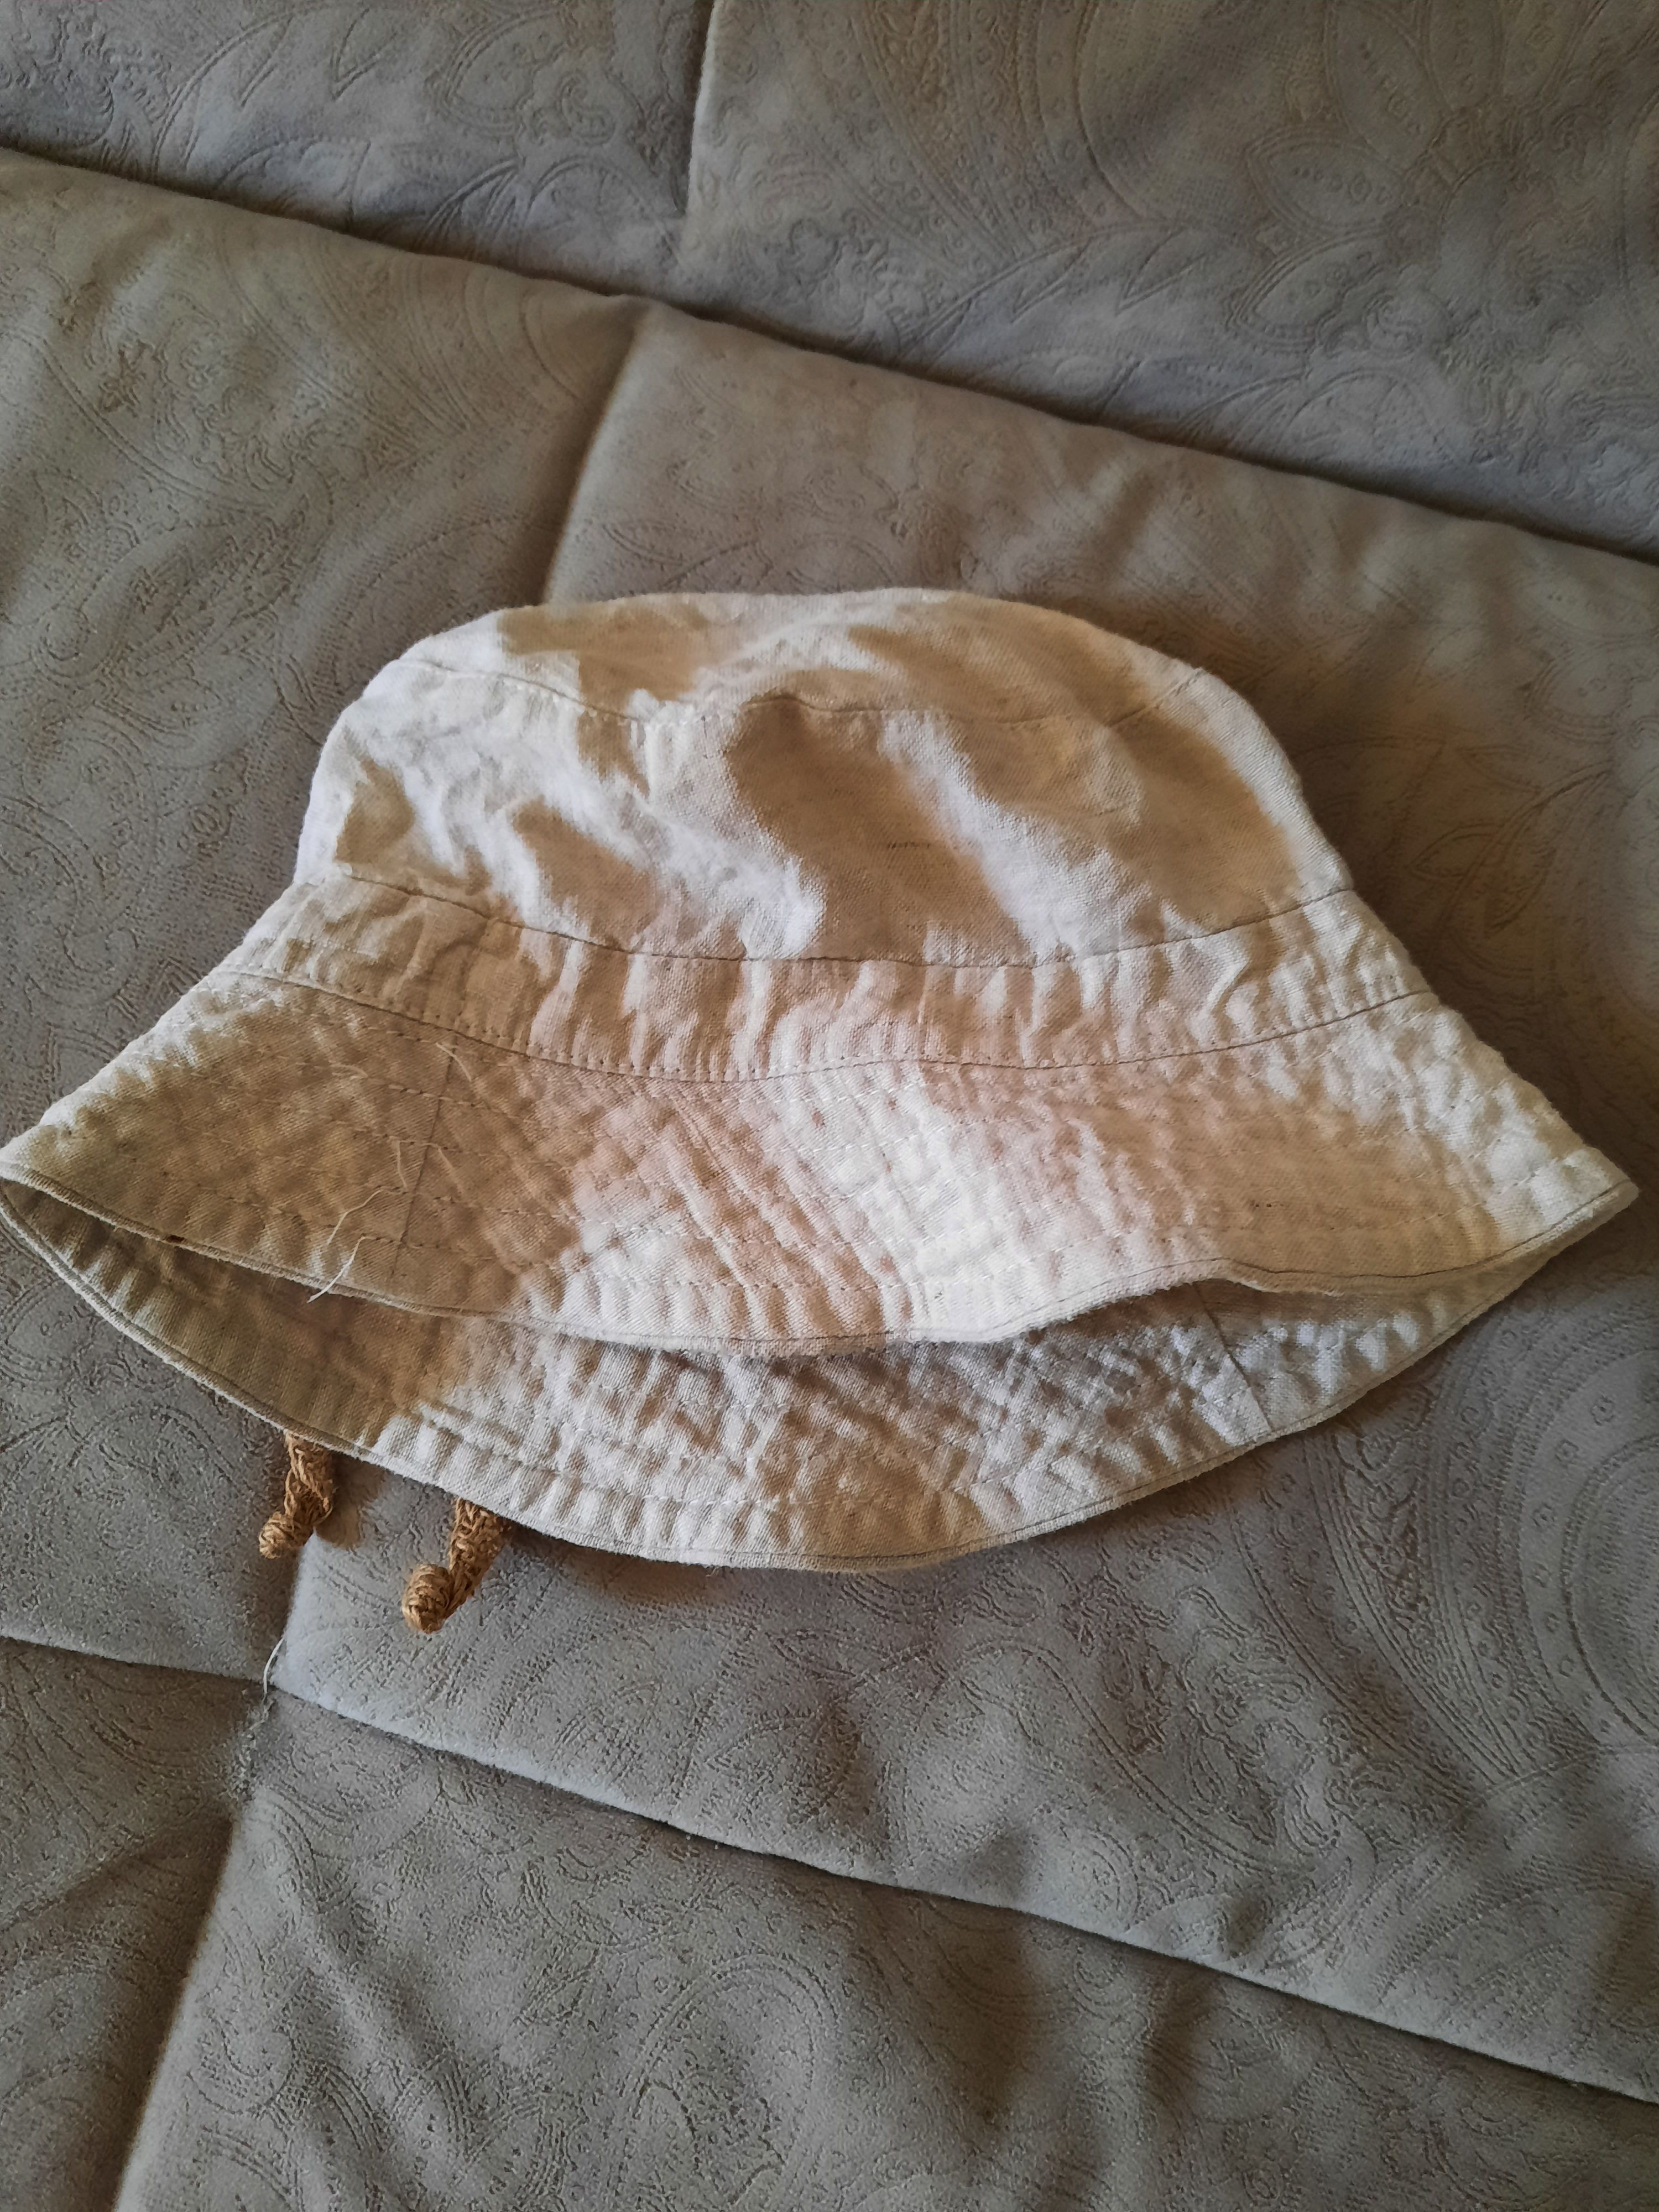clothes: (9, 583, 1631, 1566)
